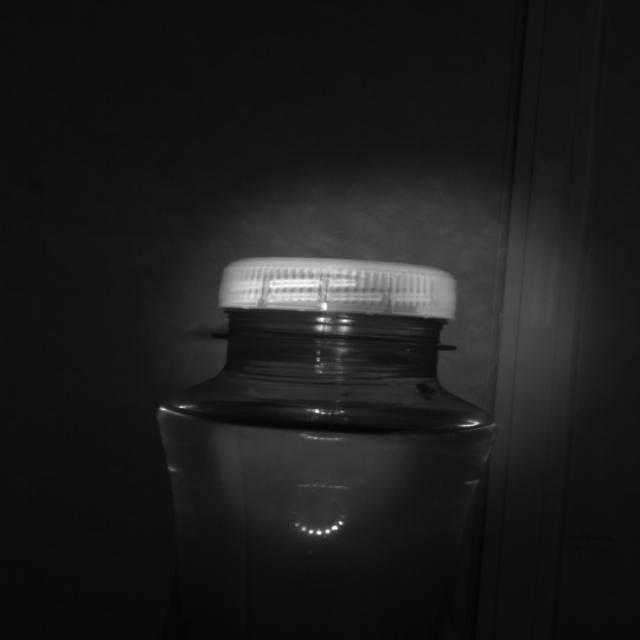Not Good: (201, 252, 461, 351)
